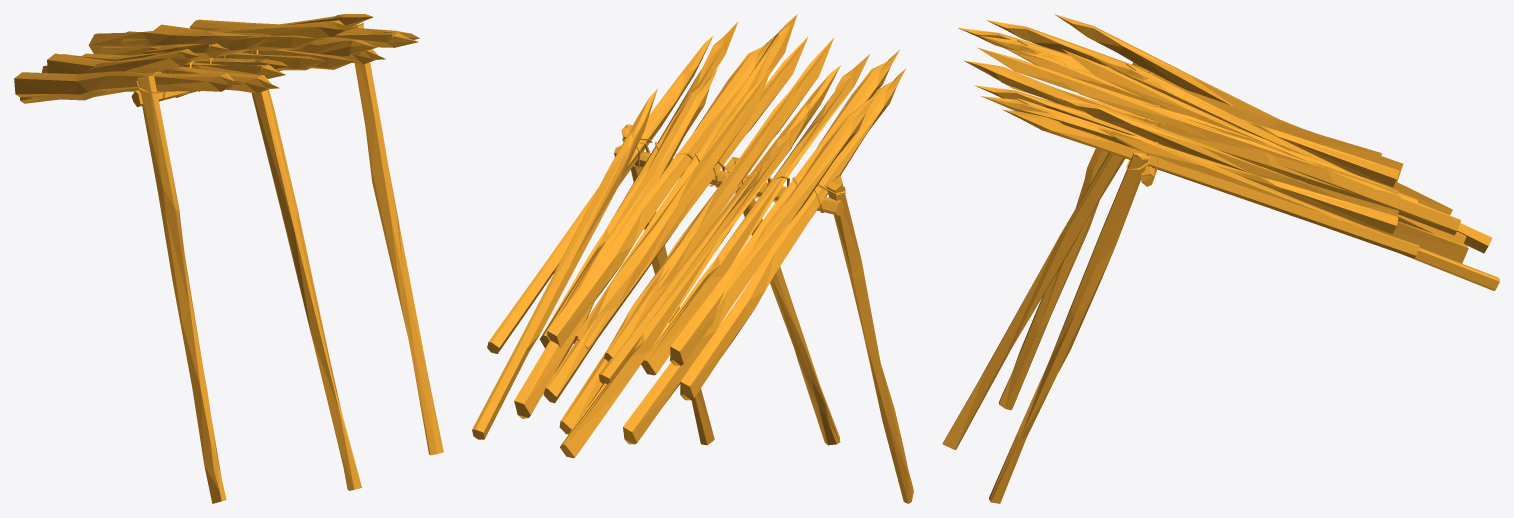
The model's file is SM_Barricade_Directional_B.fbx.
3 views of the same model, side by side, from view 1: azimuth 30°, elevation 25°; view 2: azimuth 150°, elevation 25°; view 3: azimuth 270°, elevation 25° (orthographic). The views are drawn at different scales.
Visible parts, largest first — view 1: barricade-directional-b; view 2: barricade-directional-b; view 3: barricade-directional-b.
Boxes of the visible parts, box(x1,y1,x2,y2) form: barricade-directional-b: box(14, 14, 443, 503); barricade-directional-b: box(472, 14, 913, 503); barricade-directional-b: box(942, 14, 1499, 503).
Size of the model in its own units: 3.04 by 5.66 by 6.97.
